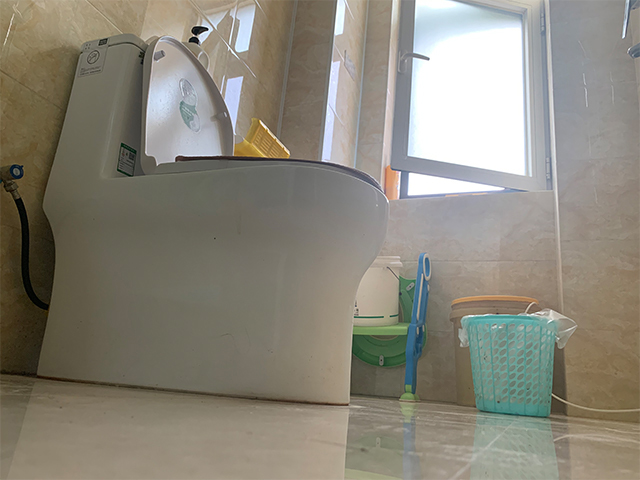closestool: (34, 32, 391, 408)
trashcan: (456, 305, 577, 419)
